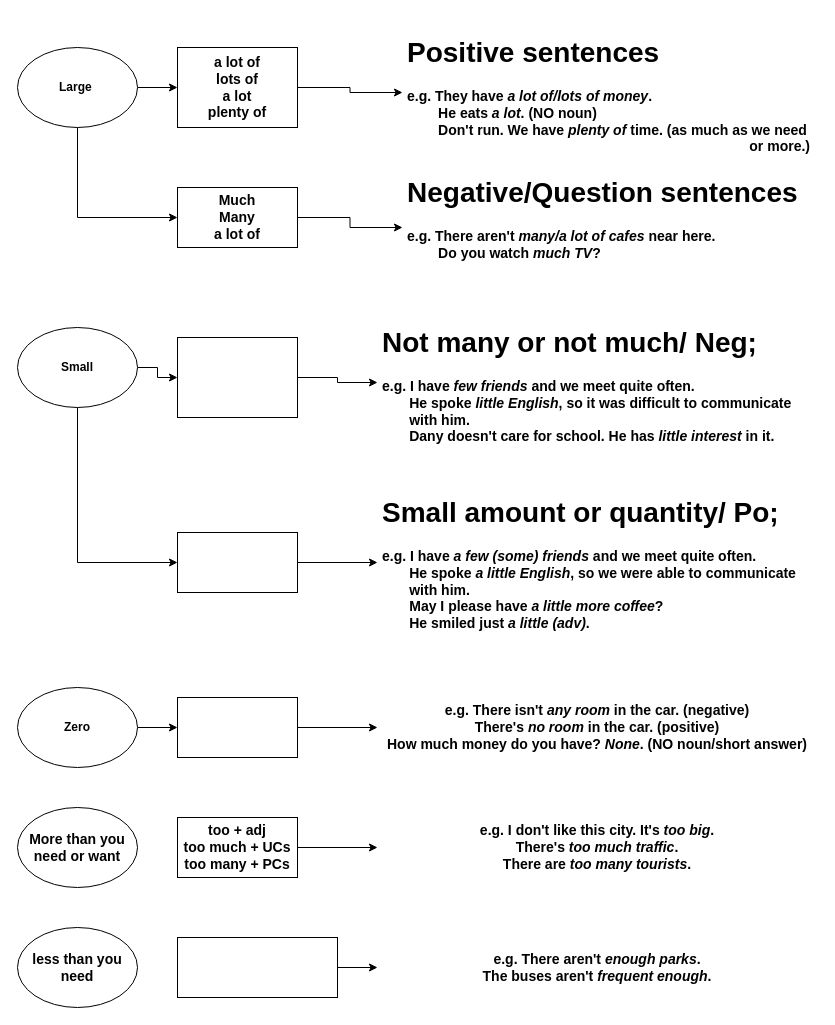
The diagram is 835 pixels wide and 1025 high, and some of its shapes have lost their labels. The centre of each missing label's shape, as x and y in pixels:
"a little + UCs a few + PCs" goes at point 237,562.
"any (-) no (+)" goes at point 237,727.
"enough (before noun) enough (after adj)" goes at point 257,967.
"little + UCs very little + UCs few + PCs very few + PCs" goes at point 237,377.
